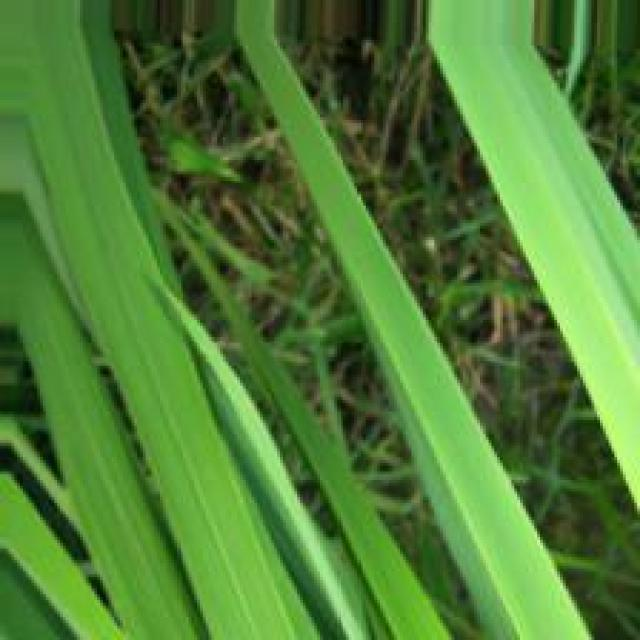HealthyLeaf: (235, 2, 592, 640), (0, 0, 317, 640), (426, 0, 640, 515)
